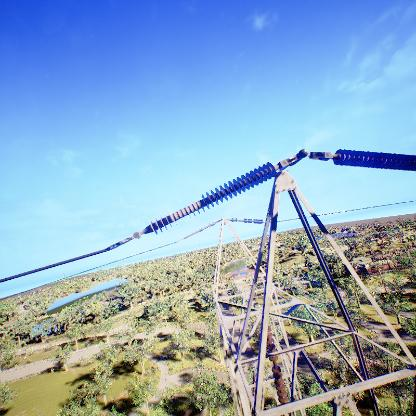insulator: (146, 161, 278, 237), (259, 325, 290, 411), (332, 149, 416, 177), (229, 217, 264, 224)
